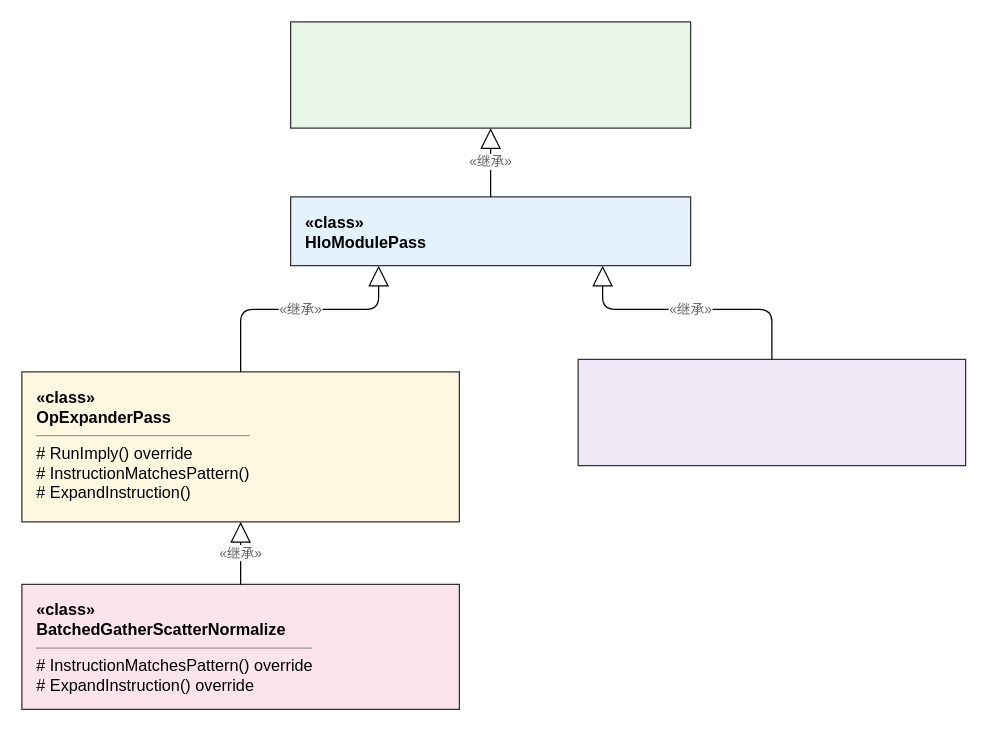
This 988x731 diagram has some shape labels left out. The shapes that lost their labels are listed below. From the top down, each one's box as (x1, y1, x2, y2) in pixels, then its label:
(289, 21, 691, 128): «class» HloPassInterface # RunImply()
(577, 358, 966, 466): «class» ZeroSizedHloElimination # RunImply() override
